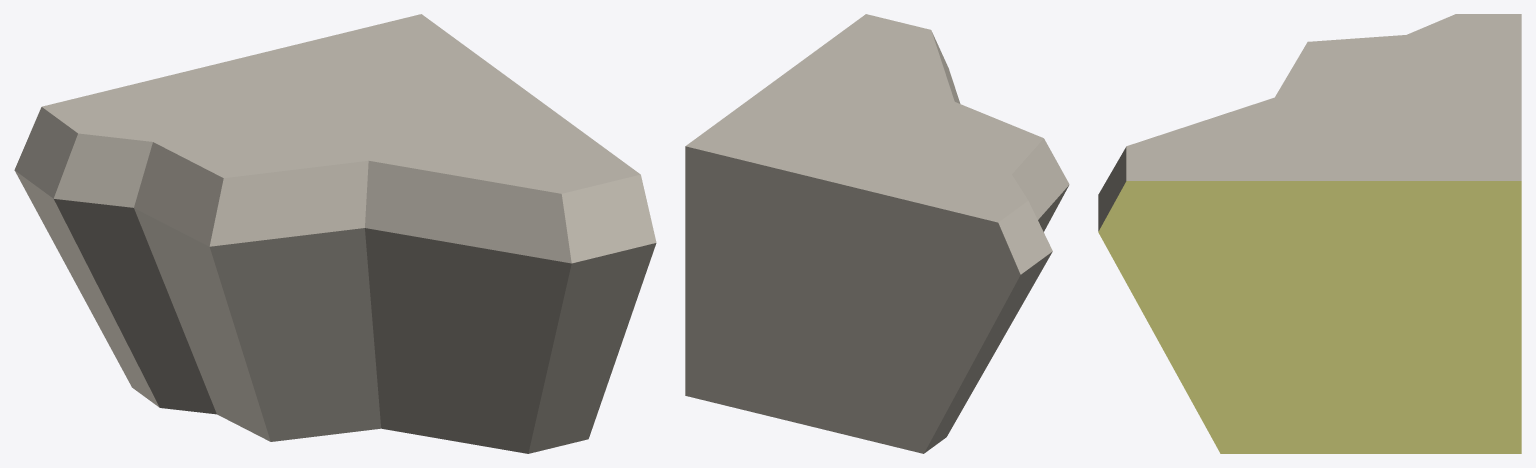
The model's file is Cracked_Curve_Outer_2x2_1_Top.glb.
3 views of the same model, side by side, from view 1: azimuth 30°, elevation 25°; view 2: azimuth 150°, elevation 25°; view 3: azimuth 270°, elevation 25° (orthographic). The views are drawn at different scales.
Visible parts, largest first — view 1: Cracked_Curve_Outer_2x2_1_Top; view 2: Cracked_Curve_Outer_2x2_1_Top; view 3: Cracked_Curve_Outer_2x2_1_Top.
Part boxes in pixels (x1,y1,x2,y2): Cracked_Curve_Outer_2x2_1_Top: (14,14,656,453); Cracked_Curve_Outer_2x2_1_Top: (685,14,1069,453); Cracked_Curve_Outer_2x2_1_Top: (1098,14,1521,453).
Bounding box in the file's own units: 141 × 100 × 141.
